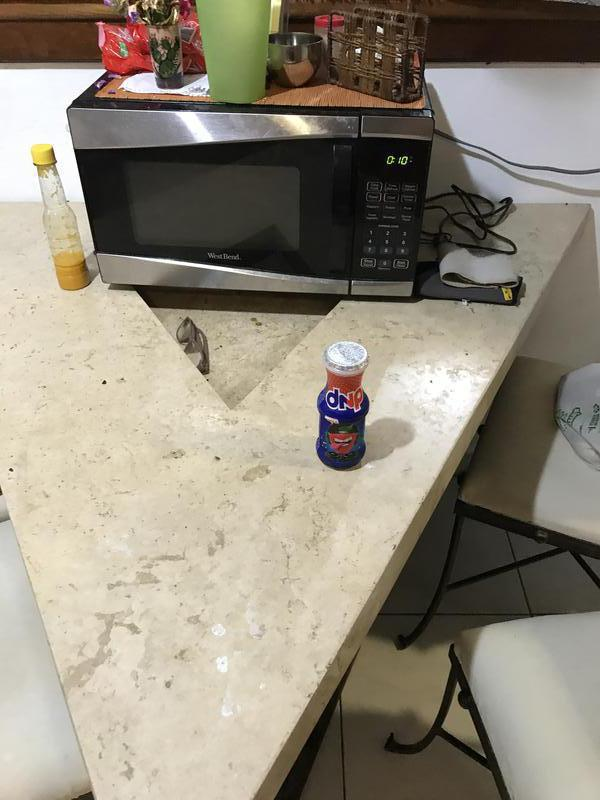danup: (317, 342, 369, 472)
